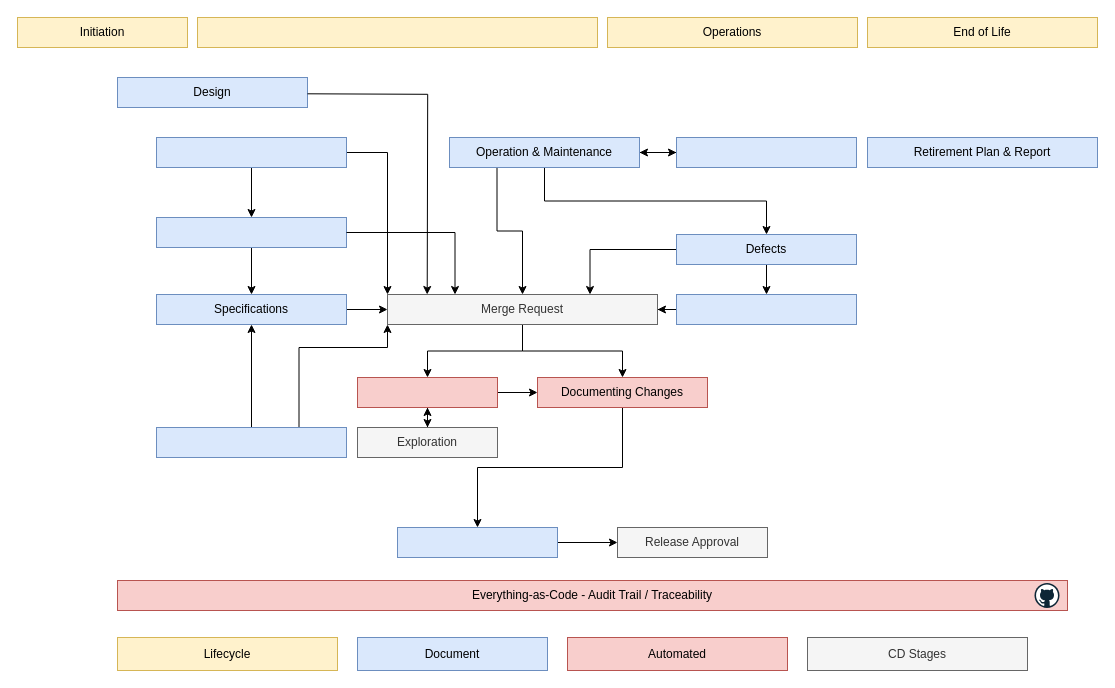
This 1115x688 diagram has some shape labels left out. Here are the shapes that lost their labels. From the top down, the centre of each, then its label:
At point 397,32: "Development".
At point 251,152: "Intended Use".
At point 766,152: "Operational Procedures".
At point 251,232: "Implementation Plan".
At point 766,309: "Incidents".
At point 427,392: "Testing".
At point 251,442: "Risk Controls".
At point 477,542: "Implementation Report".
